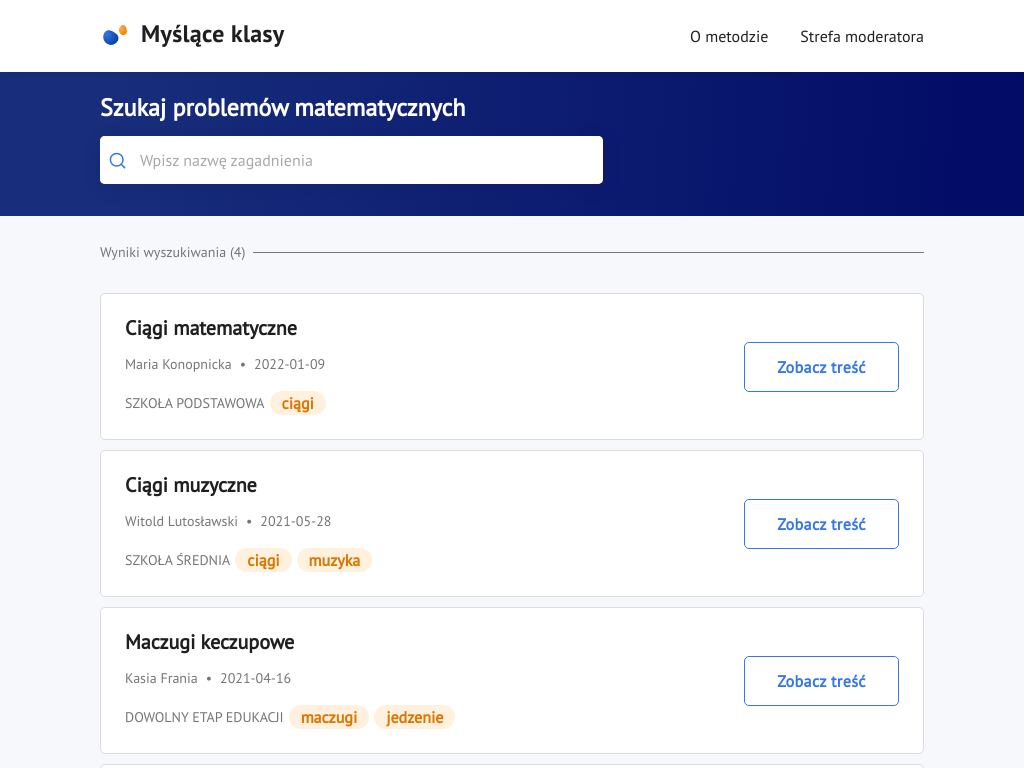
Test case: Problem Detailed Page › displays zero results view when result count = 0
This screenshot has width=1024, height=768.
Type "xx " into the field with id "input-search" at x=352, y=160, box [100,136,603,184]
Then press Enter
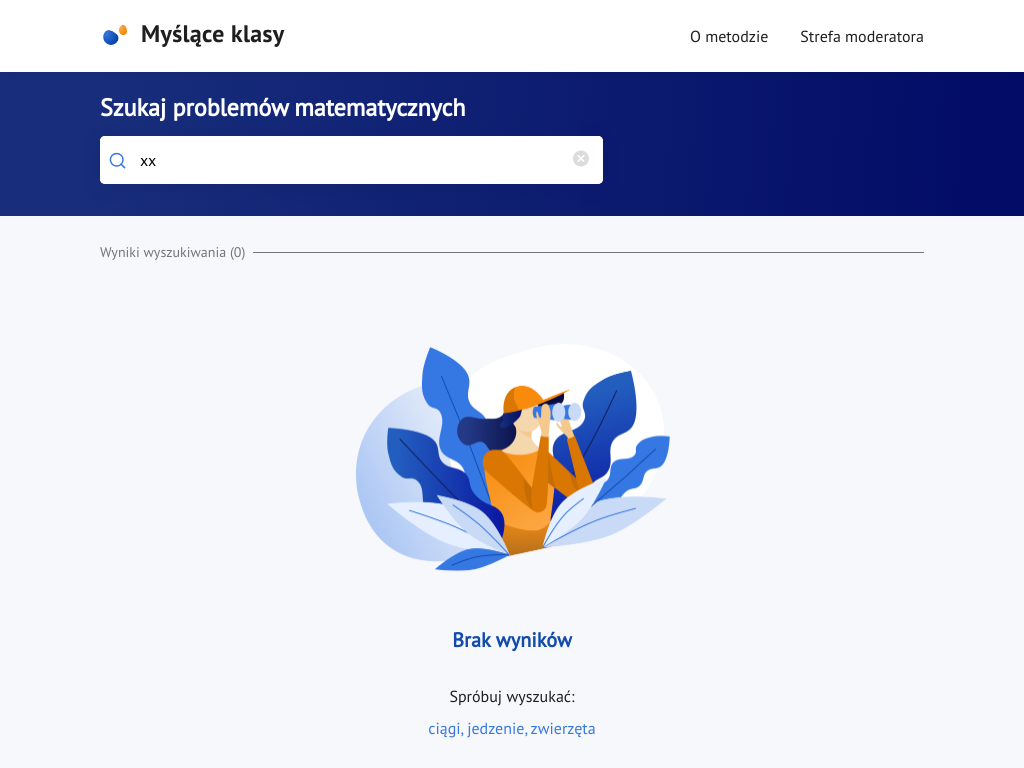
Result: the text "Spróbuj wyszukać" is shown at [449,686,574,706]
